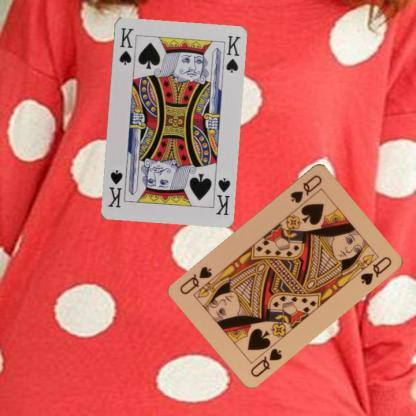Ks: (116, 25, 134, 66), (214, 175, 232, 216)
Qs: (248, 344, 284, 378), (287, 172, 324, 204)
